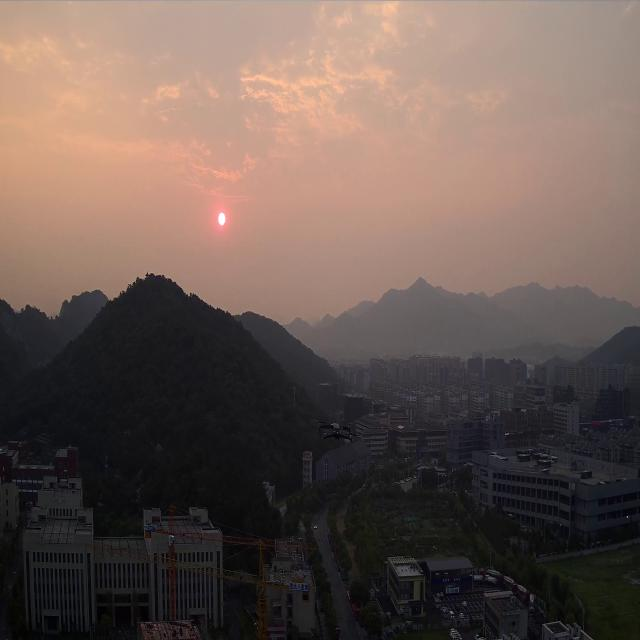UAV: (315, 419, 359, 444)
